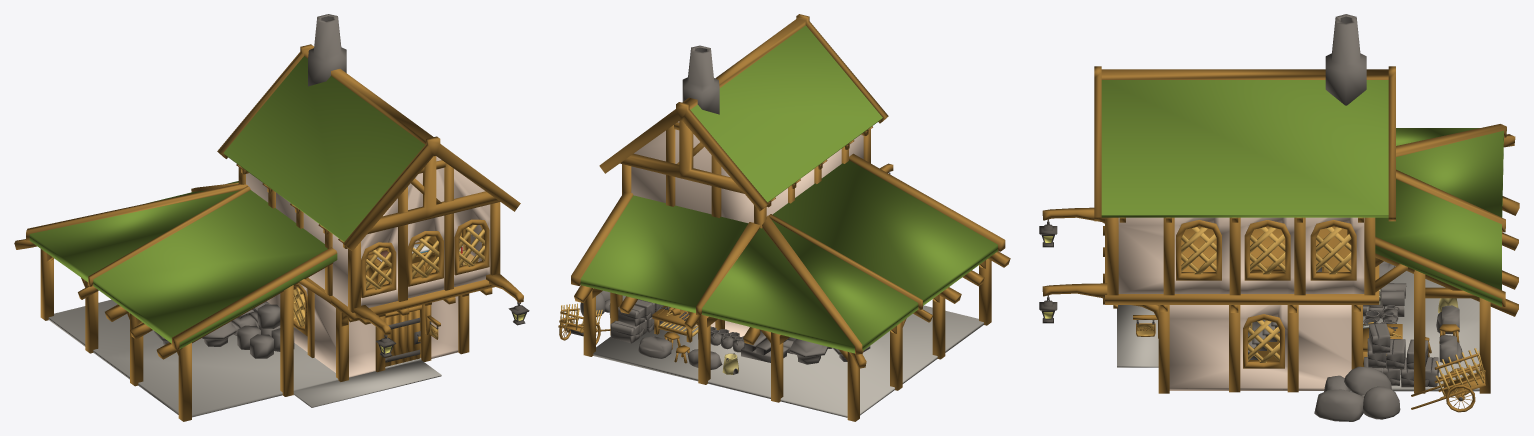
The model's file is SHOP_Mason_floor2deco.fbx.
3 renders of one model, left to right at view 1: azimuth 30°, elevation 25°; view 2: azimuth 150°, elevation 25°; view 3: azimuth 270°, elevation 25°, orthographic. The views are drawn at different scales.
Parts seen in each view (by area): view 1: Empty_Mesh, Empty_Mesh_2, Empty_Mesh_1, Empty_Mesh_3; view 2: Empty_Mesh, Empty_Mesh_2; view 3: Empty_Mesh, Empty_Mesh_2.
Part boxes in pixels (bbox=[...]): Empty_Mesh: bbox=[14, 14, 529, 421]; Empty_Mesh_2: bbox=[154, 300, 440, 358]; Empty_Mesh_1: bbox=[385, 310, 420, 366]; Empty_Mesh_3: bbox=[366, 242, 478, 286]; Empty_Mesh: bbox=[571, 14, 1010, 421]; Empty_Mesh_2: bbox=[558, 290, 870, 374]; Empty_Mesh: bbox=[1039, 14, 1519, 393]; Empty_Mesh_2: bbox=[1133, 261, 1485, 421].
Bounding box in the file's own units: 77.84 × 60.09 × 77.05.
